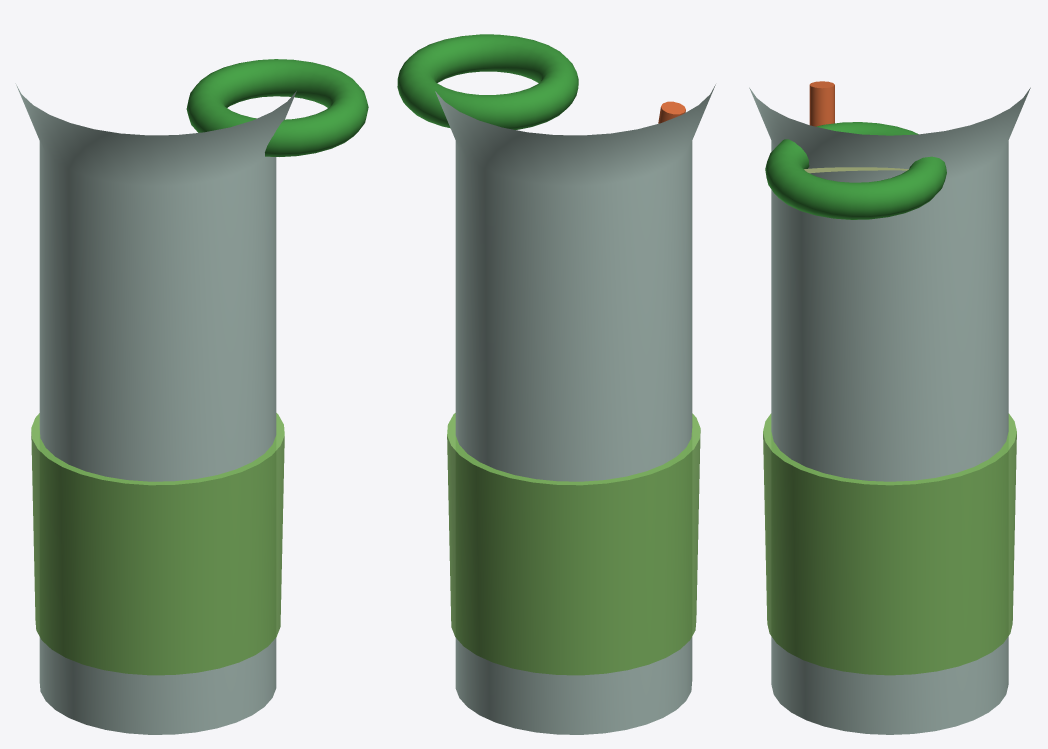
File: mojito.glb
3 renders of one model, left to right at view 1: azimuth 30°, elevation 25°; view 2: azimuth 150°, elevation 25°; view 3: azimuth 270°, elevation 25°, orthographic.
Size of the model in its own units: 0.0835 by 0.16 by 0.068.
